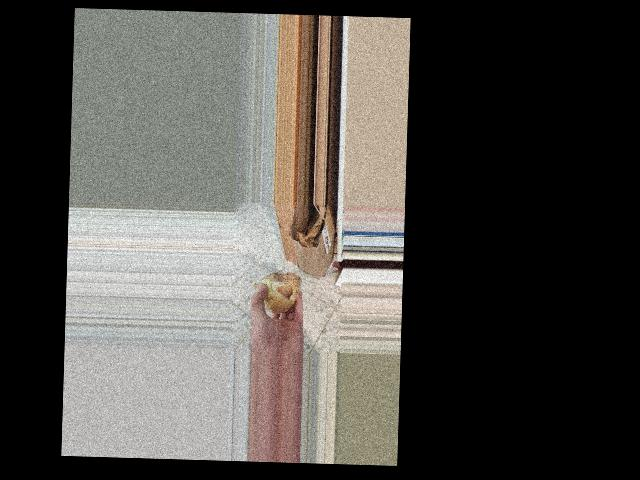onion: (255, 269, 302, 316)
